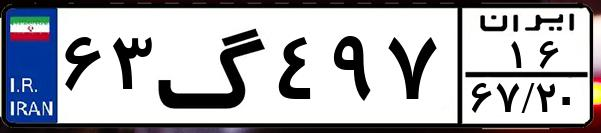0: (560, 70, 590, 125)
1: (508, 27, 537, 80)
2: (535, 70, 560, 125)
3: (110, 28, 156, 98)
4: (270, 28, 330, 110)
6: (57, 26, 110, 100), (537, 27, 568, 80), (470, 70, 495, 125)
7: (385, 28, 445, 110), (495, 70, 520, 125)
9: (330, 28, 385, 110)
گ: (156, 12, 270, 120)
